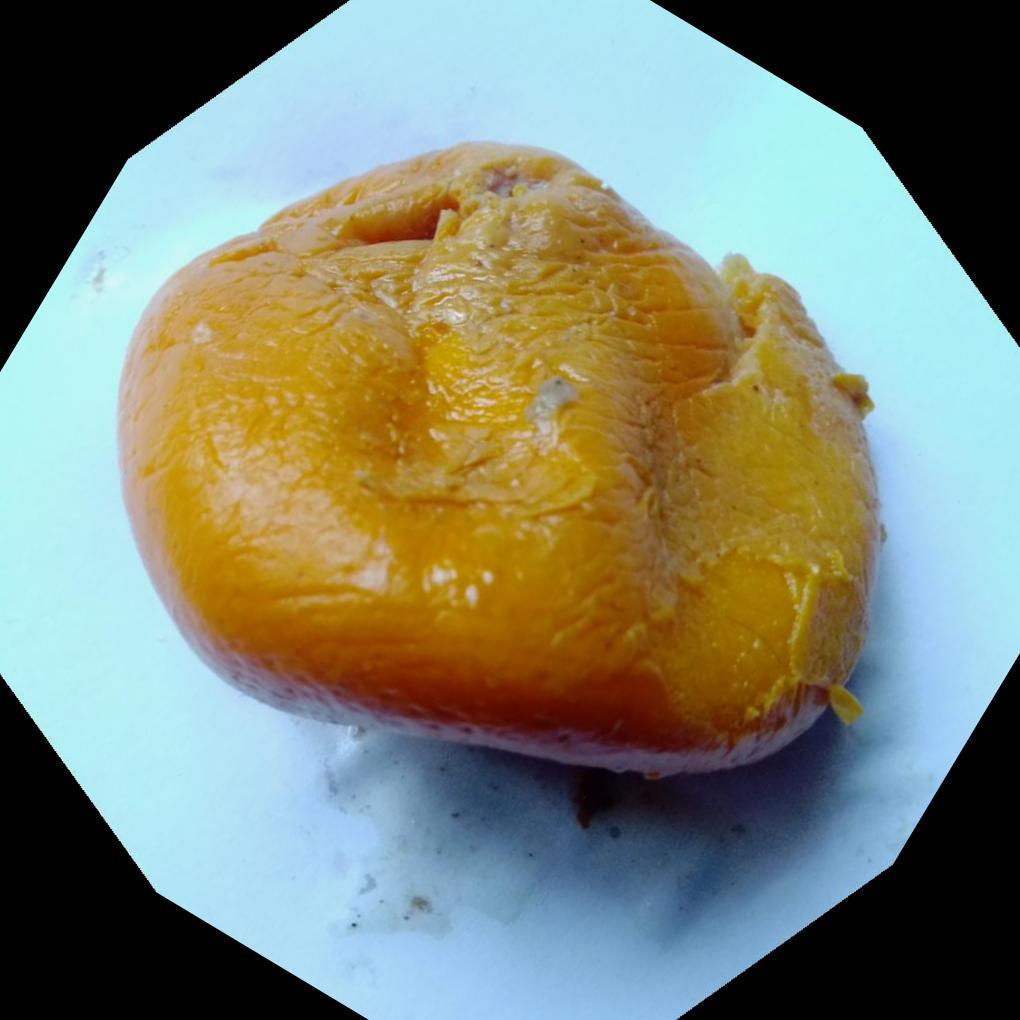FreshOrange: (116, 135, 885, 776)
